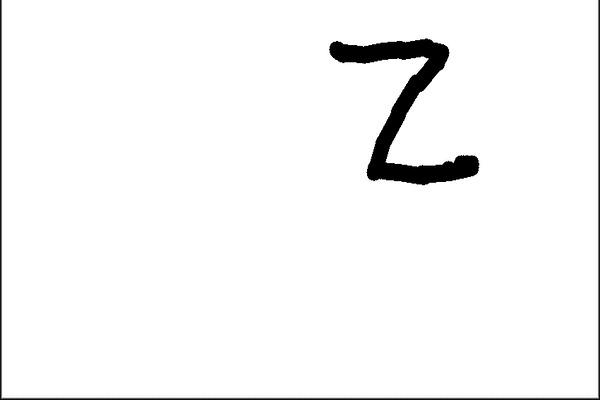Z: (317, 18, 482, 194)
